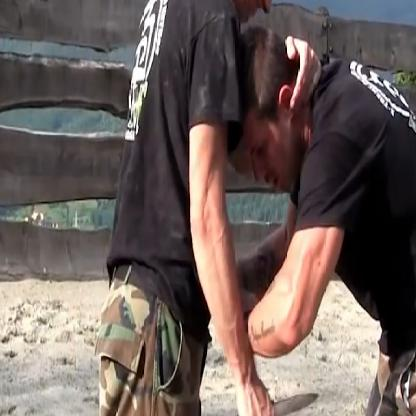knife: (231, 375, 325, 415)
